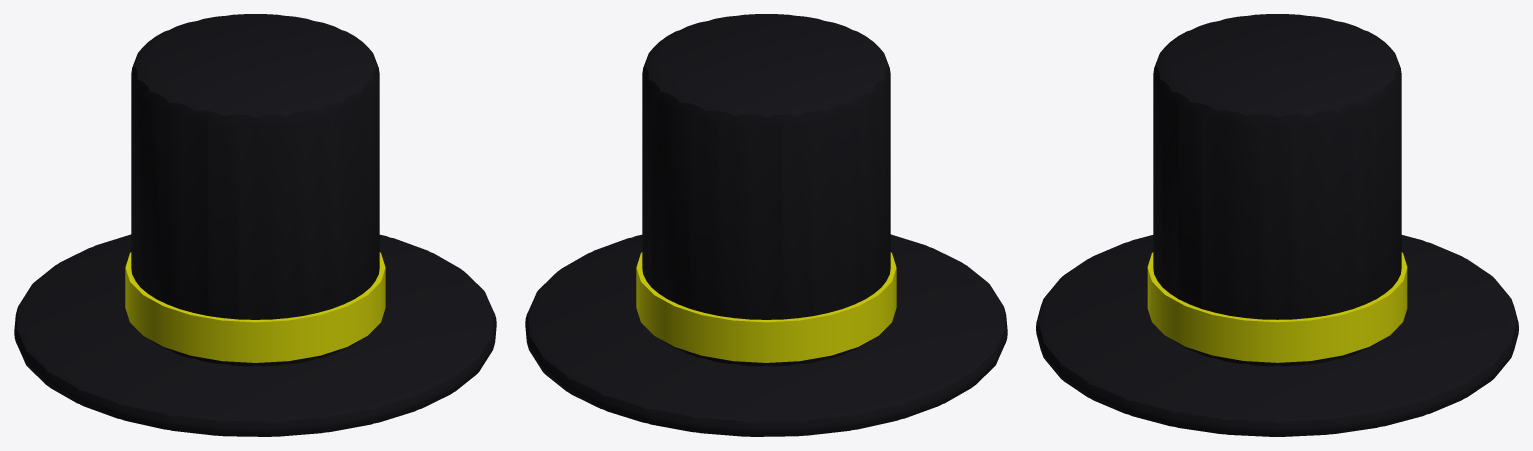
File: Hat3.fbx
3 renders of one model, left to right at view 1: azimuth 30°, elevation 25°; view 2: azimuth 150°, elevation 25°; view 3: azimuth 270°, elevation 25°, orthographic.
Visible parts, largest first — view 1: Hat3; view 2: Hat3; view 3: Hat3.
Boxes of the visible parts, x1,y1,x2,y2 form: Hat3: (14, 14, 496, 436); Hat3: (525, 14, 1007, 436); Hat3: (1036, 14, 1518, 436).
Bounding box in the file's own units: 0.5387 × 0.3425 × 0.5387.
